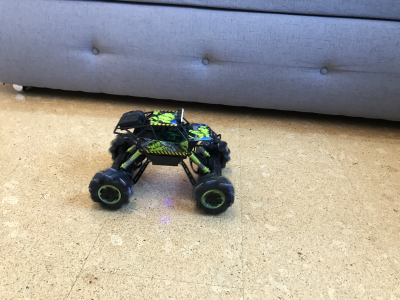remote control car: (86, 101, 237, 217)
